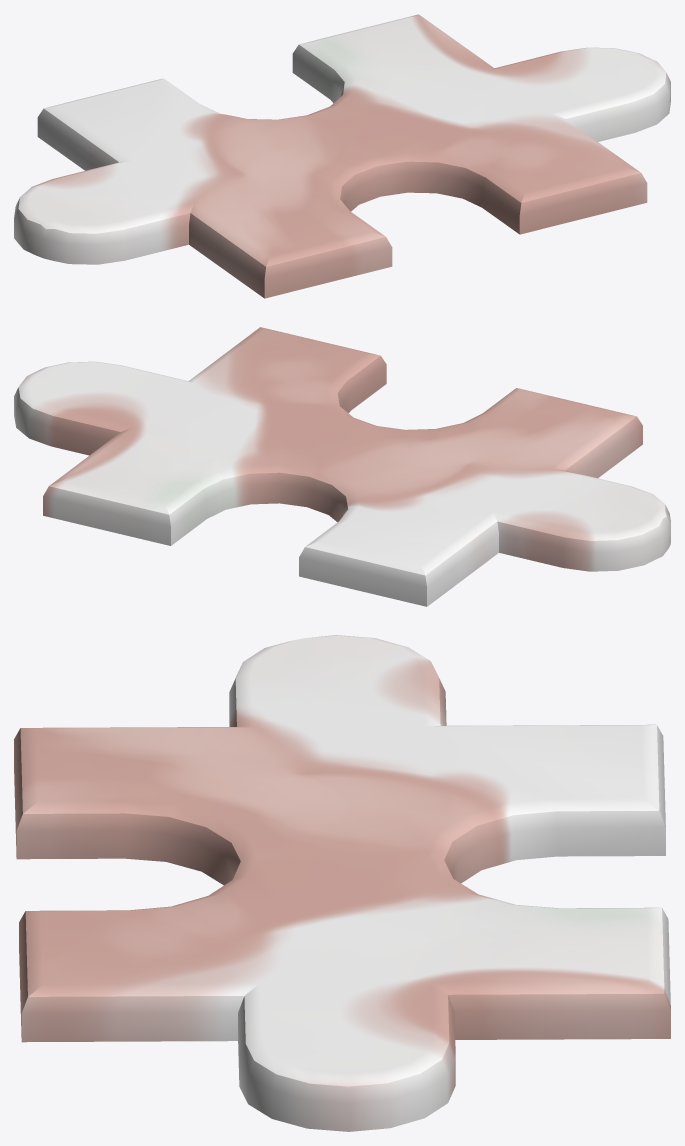
The model's file is puzzle5.fbx.
3 renders of one model, top to bottom at view 1: azimuth 30°, elevation 25°; view 2: azimuth 150°, elevation 25°; view 3: azimuth 270°, elevation 25°, orthographic. The views are drawn at different scales.
Parts seen in each view (by area): view 1: polySurface7; view 2: polySurface7; view 3: polySurface7.
Boxes of the visible parts, box(x1,y1,x2,y2) form: polySurface7: box(14, 14, 670, 298); polySurface7: box(14, 327, 670, 606); polySurface7: box(14, 635, 670, 1131).
Size of the model in its own units: 1.67 by 0.0821 by 1.01.
